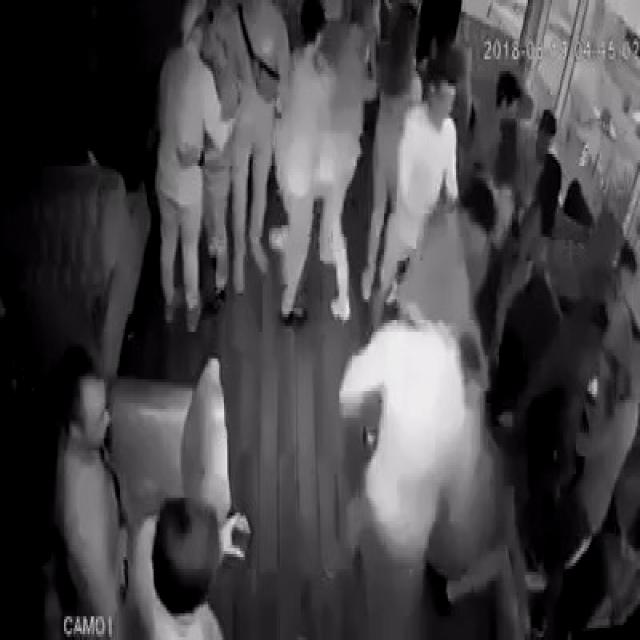fight: (339, 182, 496, 628)
